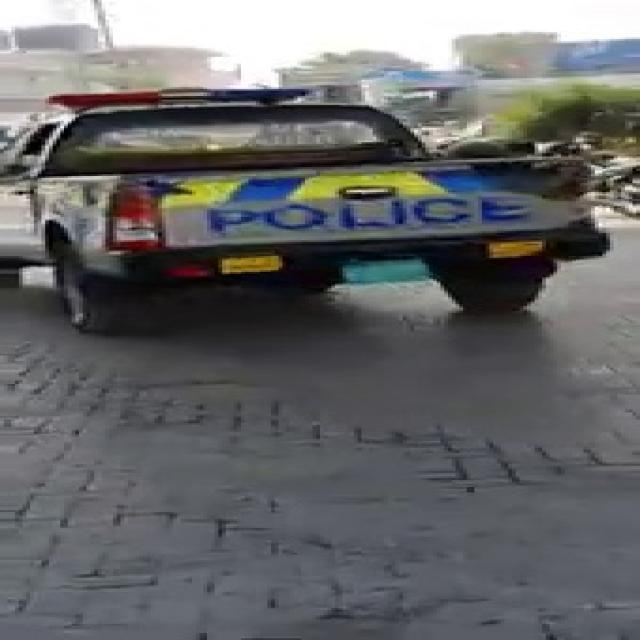police: (26, 76, 566, 324)
